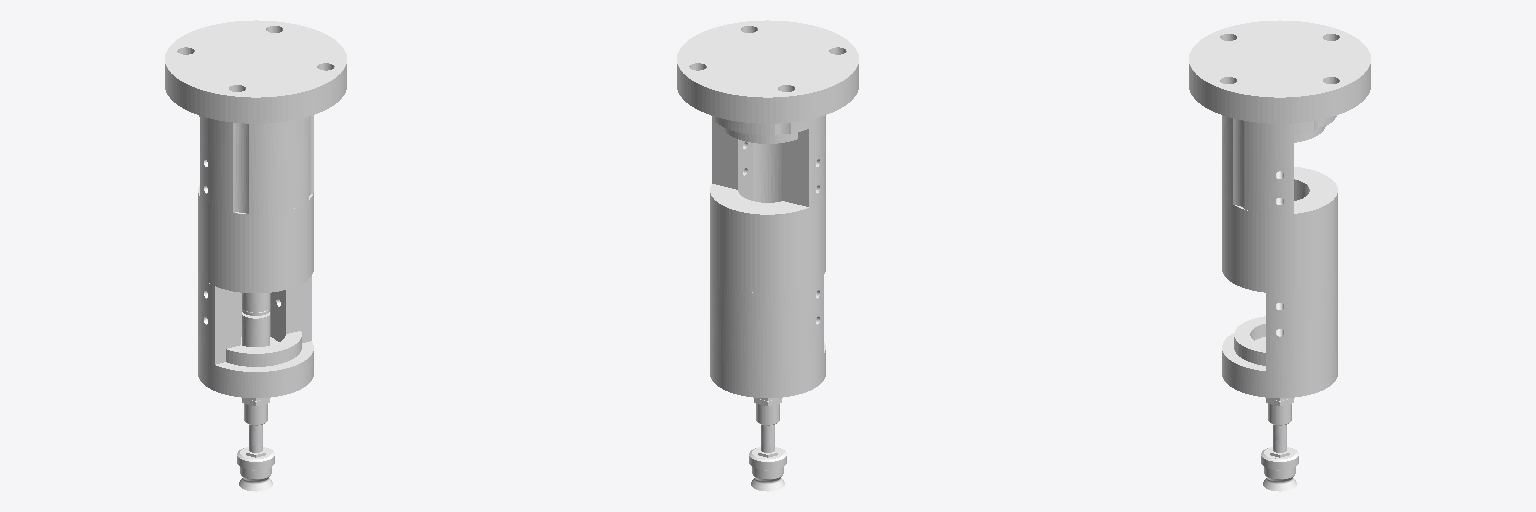
The robot description file, URDF, robot "draught_tube":
<robot name="draught_tube">
  <link name="draught_tube">
    <inertial>
      <origin
        xyz="0 0 0"
        rpy="0 0 0" />
      <mass
        value="0.8" />
      <inertia
        ixx="0"
        ixy="0"
        ixz="0"
        iyy="0"
        iyz="0"
        izz="0" />
    </inertial>
    <visual>
      <origin
        xyz="0 0 0"
        rpy="0 0 0" />
      <geometry>
        <mesh
          filename="package://testos/parts_descriptions/meshes/draught_tube.STL" scale="0.001 0.001 0.001"/>
      </geometry>
      <material
        name="">
          <color rgba="1 1 1 1"/>
      </material>
    </visual>
    <collision>
      <origin
        xyz="0 0 0"
        rpy="0 0 0" />
      <geometry>
        <mesh
          filename="package://testos/parts_descriptions/meshes/draught_tube.STL" scale="0.001 0.001 0.001"/>
      </geometry>
    </collision>
  </link>
</robot>

--- Facts derived from the render (not from the file) ---
3 views of the same robot in one strip: view 1: azimuth 30°, elevation 25°; view 2: azimuth 150°, elevation 25°; view 3: azimuth 270°, elevation 25° (orthographic).
Robot: draught_tube — 1 links, 0 joints (none); root link draught_tube; default pose: every joint at zero.
Links seen in each view (by area): view 1: draught_tube; view 2: draught_tube; view 3: draught_tube.
Link boxes in pixels (x1,y1,x2,y2): draught_tube: [165, 20, 346, 491]; draught_tube: [677, 20, 858, 491]; draught_tube: [1189, 20, 1370, 491].
Size in the robot's own frame: 0.063 by 0.063 by 0.162 metres.
Meshes: 1 distinct files referenced, 1 mesh visuals loaded (1 binary STL).